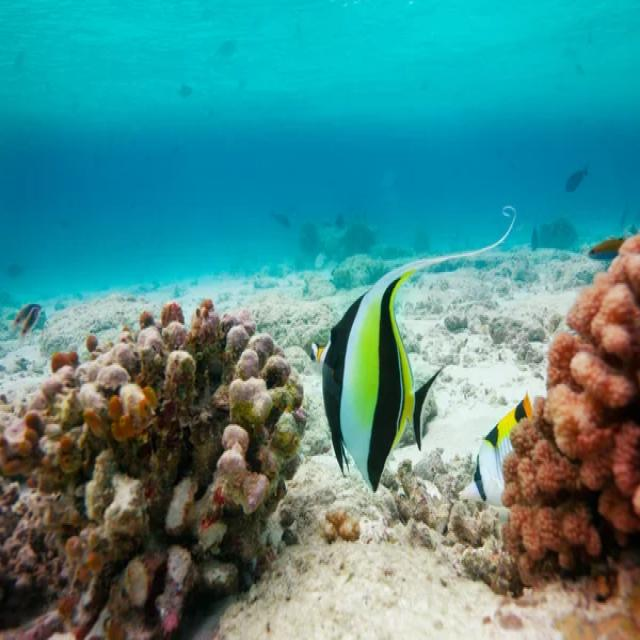MorishIdol: (310, 203, 518, 494)
